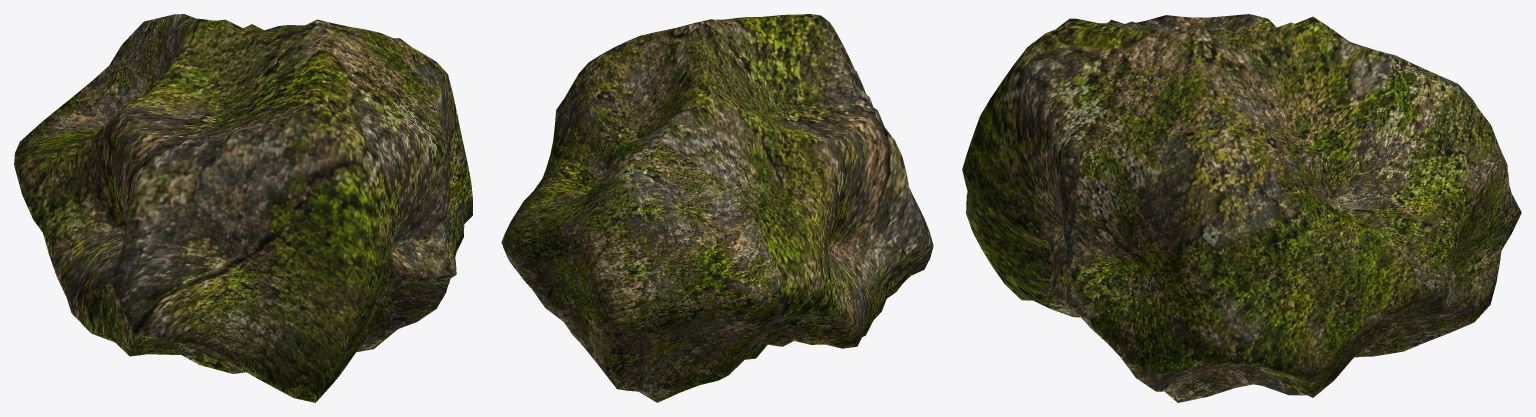
Rendered from my_rock1.glb.
3 renders of one model, left to right at view 1: azimuth 30°, elevation 25°; view 2: azimuth 150°, elevation 25°; view 3: azimuth 270°, elevation 25°, orthographic. The views are drawn at different scales.
Parts seen in each view (by area): view 1: Cube; view 2: Cube; view 3: Cube.
Boxes of the visible parts, box(x1,y1,x2,y2) form: Cube: box(14, 14, 472, 402); Cube: box(501, 14, 933, 402); Cube: box(962, 14, 1521, 402).
Size of the model in its own units: 3.36 by 2.75 by 3.98.
1 material, 1 textured.
